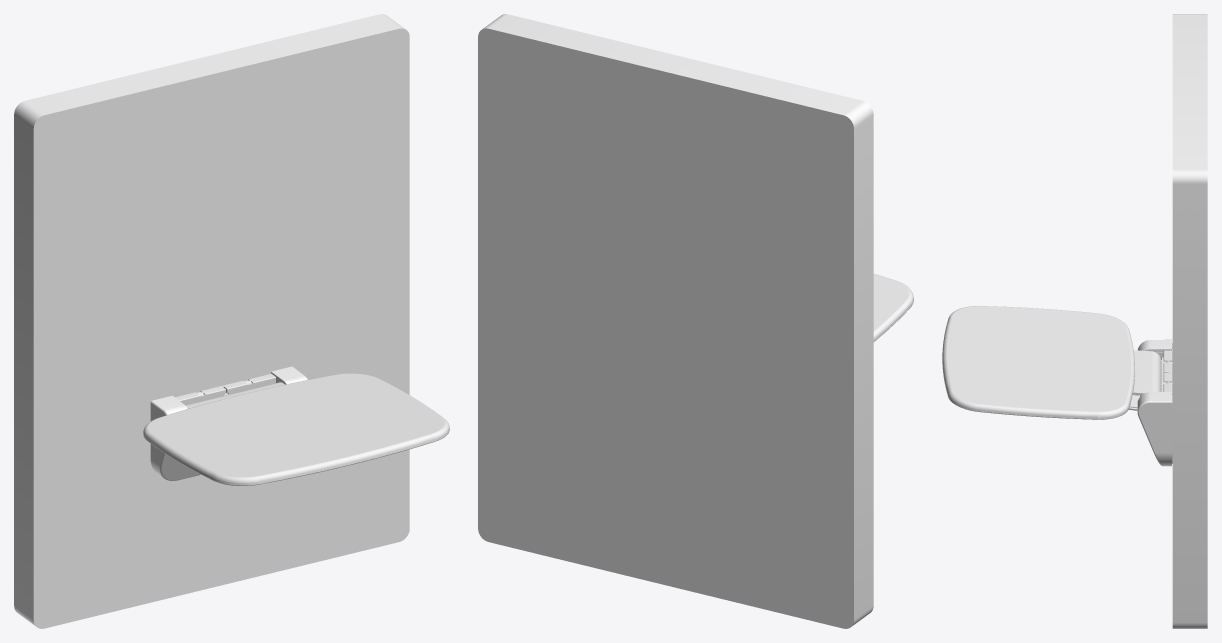
Rendered from shower_seat.glb.
3 views of the same model, side by side, from view 1: azimuth 30°, elevation 25°; view 2: azimuth 150°, elevation 25°; view 3: azimuth 270°, elevation 25° (orthographic). The views are drawn at different scales.
Parts seen in each view (by area): view 1: sciana_siedzisko, siedzenie_gora_siedzisko, oslona_siedzisko, mocowanie_siedzisko; view 2: sciana_siedzisko, siedzenie_gora_siedzisko; view 3: sciana_siedzisko, siedzenie_gora_siedzisko, oslona_siedzisko, siedzenie_spod_siedzisko, mocowanie_siedzisko.
Part boxes in pixels (x1,y1,x2,y2): sciana_siedzisko: [14, 14, 409, 628]; siedzenie_gora_siedzisko: [143, 373, 449, 485]; oslona_siedzisko: [150, 366, 307, 480]; mocowanie_siedzisko: [175, 373, 279, 405]; sciana_siedzisko: [478, 14, 873, 628]; siedzenie_gora_siedzisko: [873, 273, 913, 341]; sciana_siedzisko: [1172, 14, 1207, 628]; siedzenie_gora_siedzisko: [942, 306, 1134, 419]; oslona_siedzisko: [1137, 339, 1171, 466]; siedzenie_spod_siedzisko: [1129, 350, 1161, 410]; mocowanie_siedzisko: [1156, 343, 1172, 463].
Size of the model in its own units: 0.5519 by 0.72 by 0.3778.
Materials: 6 (6 with a texture image).
